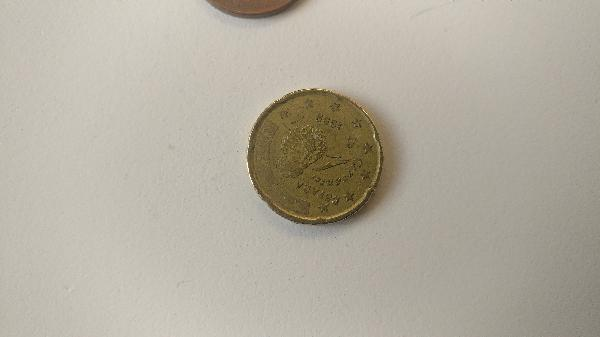Twenty Cent: (244, 87, 389, 226)
